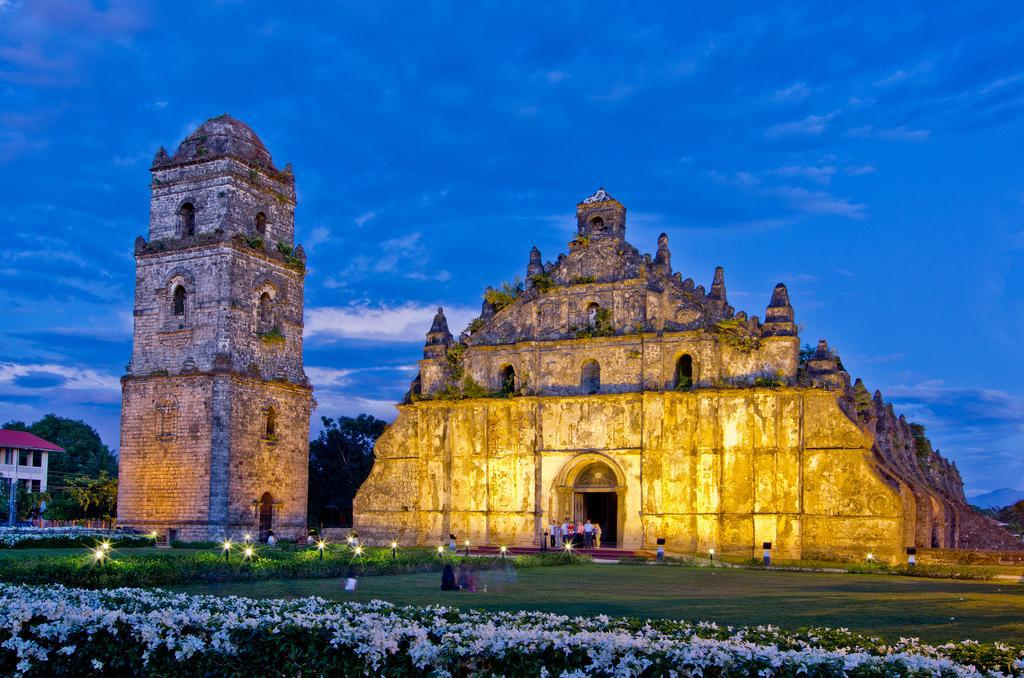Environmental Damage: (240, 229, 304, 269), (422, 374, 487, 403), (579, 310, 621, 344), (257, 327, 288, 349)
Paoay Church: (106, 105, 910, 567)
